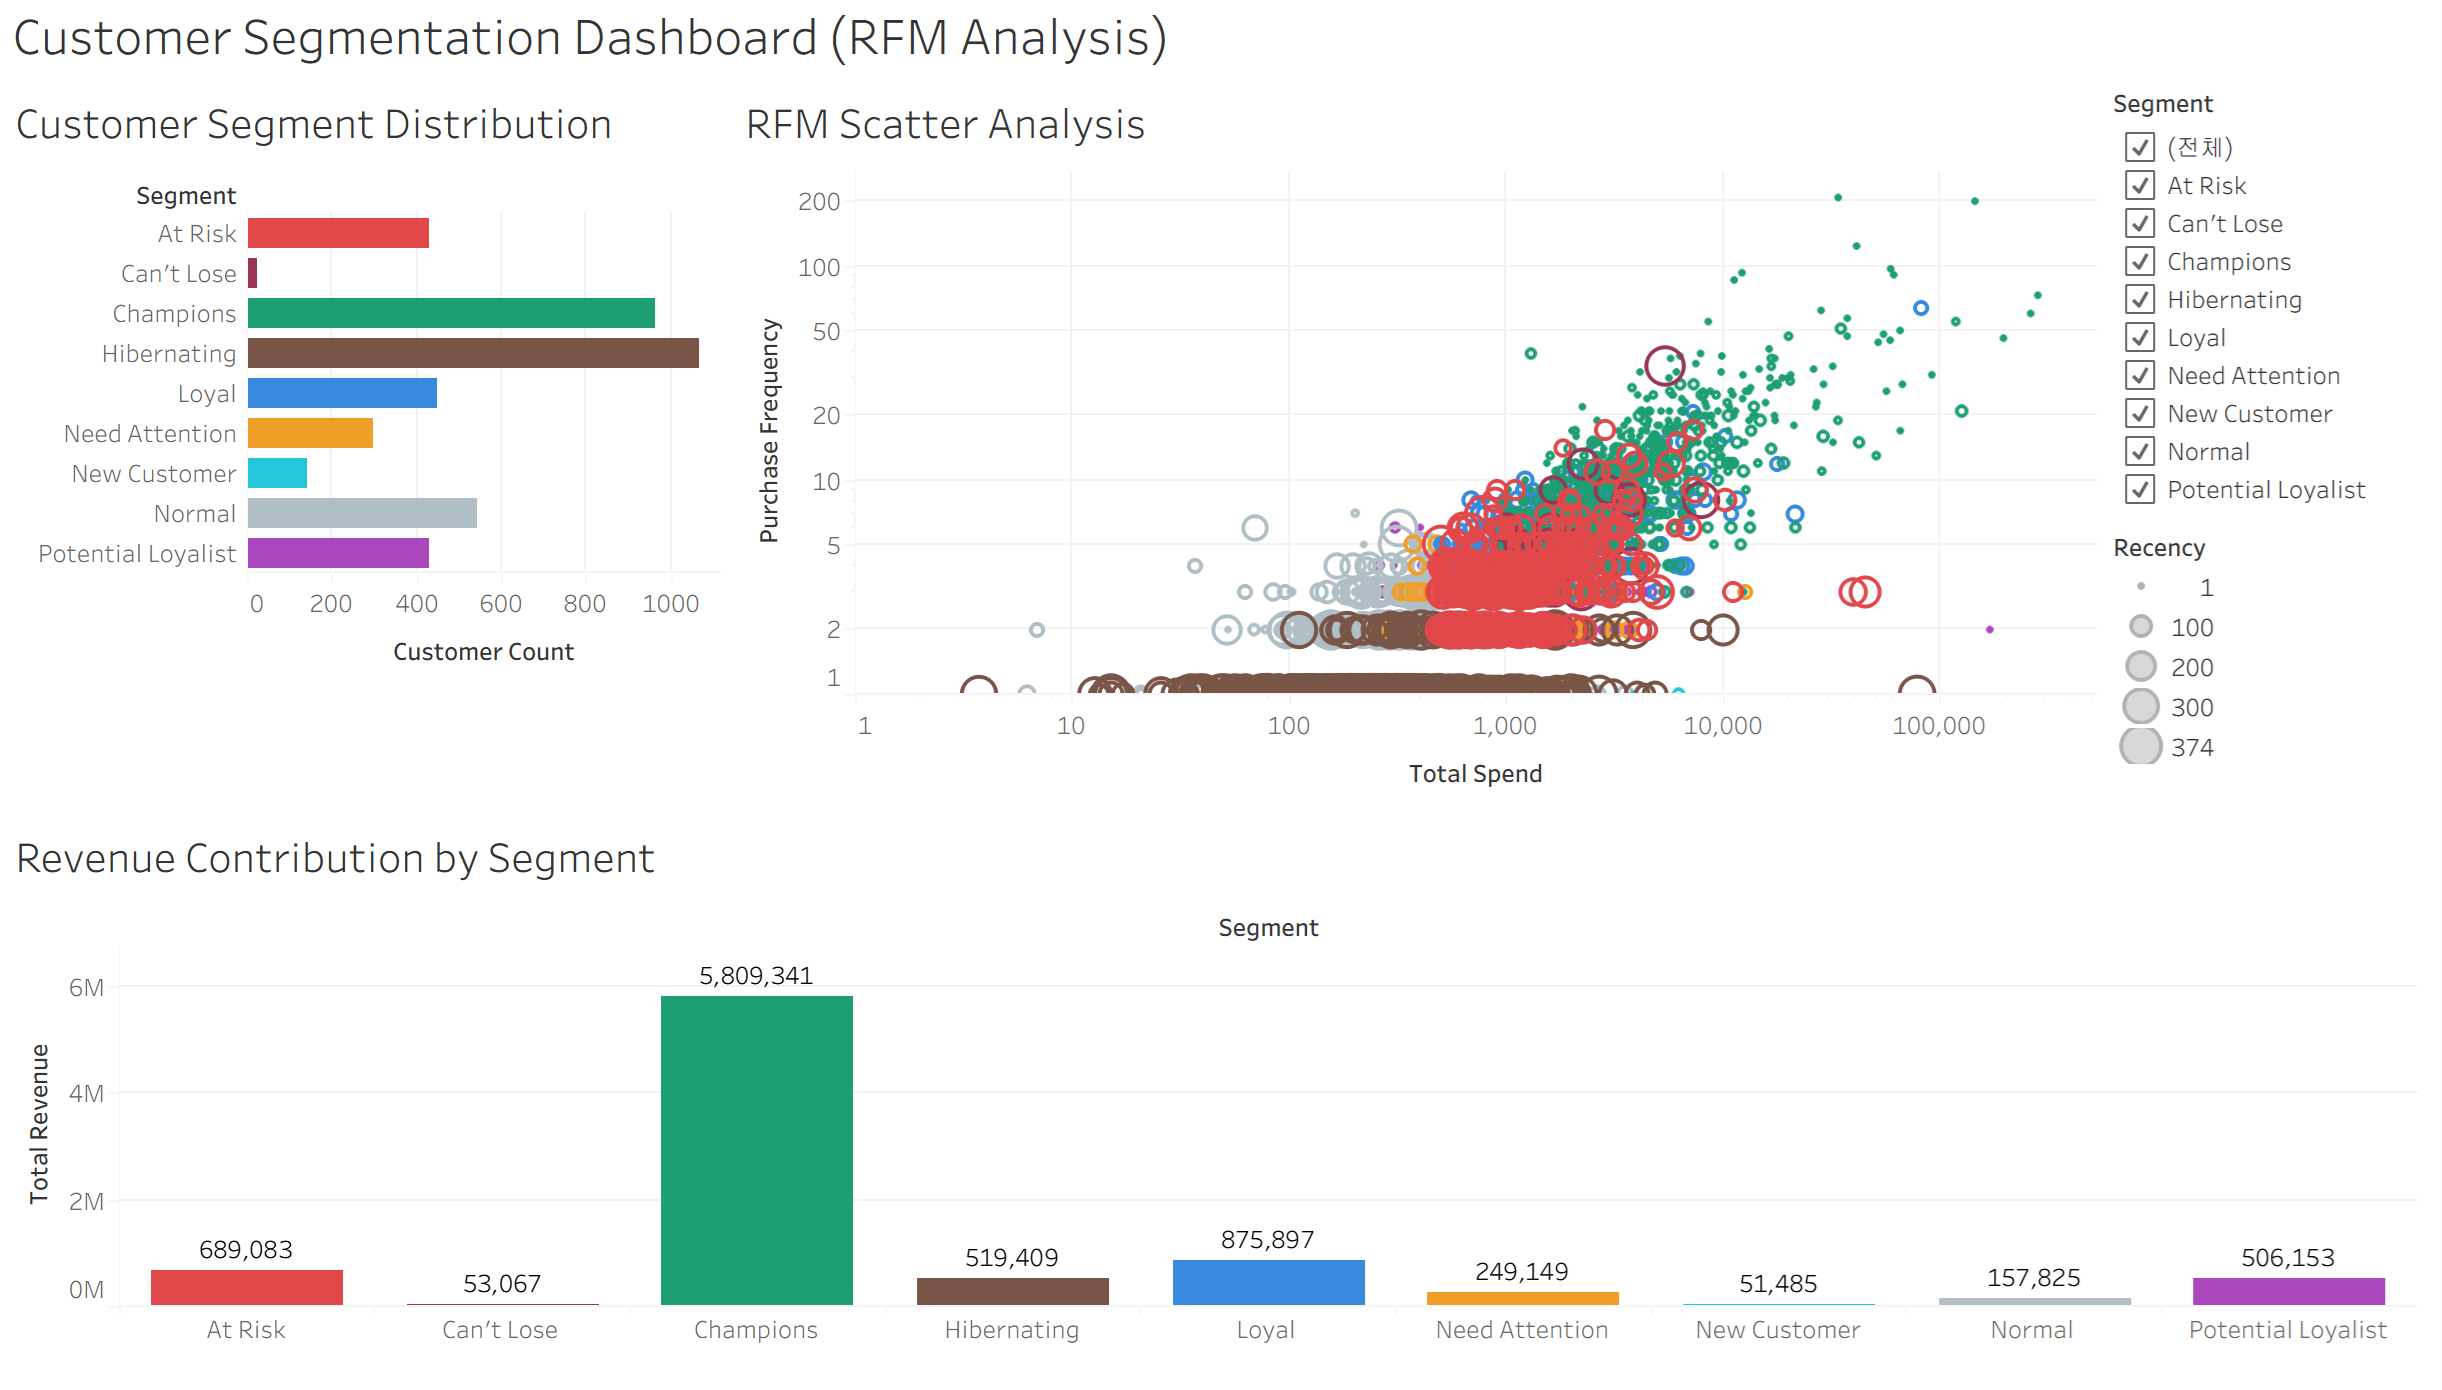

The dashboard page shown, as its layout file describes it:
{"tool":"tableau","page":{"name":"Customer Segmentation Dashboard (RFM Analysis)","canvas":[1000,1000],"units":"permille","ordinal":0},"visuals":[{"type":"title","box":[6.5,11.2,987,58.7]},{"type":"worksheet","title":"Customer Segment Distribution","mark":"Automatic","rows":["Segment"],"cols":["CustomerID"],"box":[6.5,69.8,297.3,512.2]},{"type":"worksheet","title":"RFM Scatter Analysis","mark":"Automatic","rows":["Frequency"],"cols":["Monetary"],"box":[303.9,69.8,559.5,512.2]},{"type":"filter","title":"RFM Scatter Analysis","param":"[federated.1sg99jz0r98vuj1c4y4oc11es2y8].[none:Segment:nk]","box":[863.3,69.8,130.2,310.1]},{"type":"legend","title":"RFM Scatter Analysis","param":"[federated.1sg99jz0r98vuj1c4y4oc11es2y8].[sum:Recency:qk]","box":[863.3,379.9,130.2,176]},{"type":"worksheet","title":"Revenue Contribution by Segment","mark":"Automatic","rows":["Monetary"],"cols":["Segment"],"box":[6.5,582,987,406.8]}]}

Visuals, with their boxes on the dashboard's canvas, which has no fixed pixel size, in thousandths of its width and height (x1, y1, x2, y2). These are canvas units, not pixel positions in the 2442x1390 screenshot, which may show the page scaled, cropped or inside an application window:
title: BBox(6, 11, 994, 70)
"Customer Segment Distribution" worksheet: BBox(6, 70, 304, 582)
"RFM Scatter Analysis" worksheet: BBox(304, 70, 863, 582)
"RFM Scatter Analysis" filter: BBox(863, 70, 994, 380)
"RFM Scatter Analysis" legend: BBox(863, 380, 994, 556)
"Revenue Contribution by Segment" worksheet: BBox(6, 582, 994, 989)
